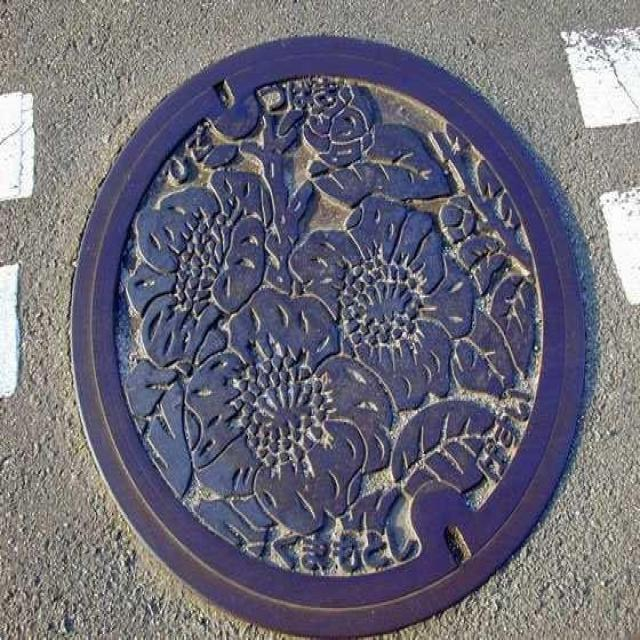manhole: (71, 38, 598, 640)
